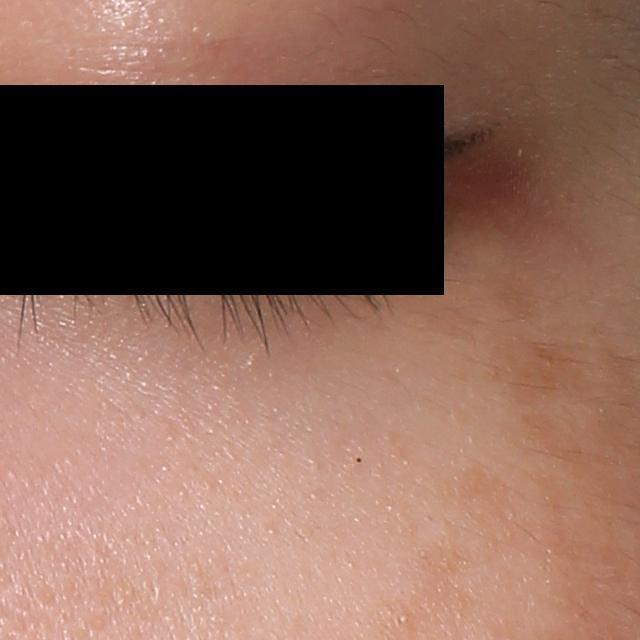melasma: (480, 319, 602, 415), (474, 262, 565, 328), (450, 456, 507, 506)
